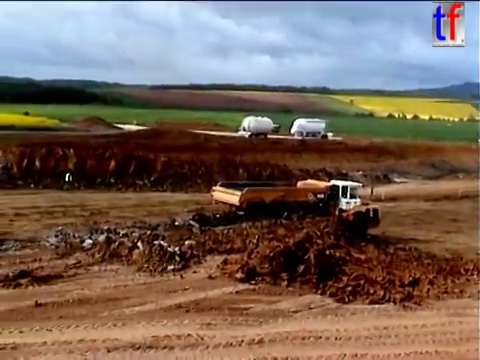truck: (209, 175, 377, 225), (235, 113, 283, 141), (288, 115, 335, 142)
worker: (62, 170, 76, 193)
